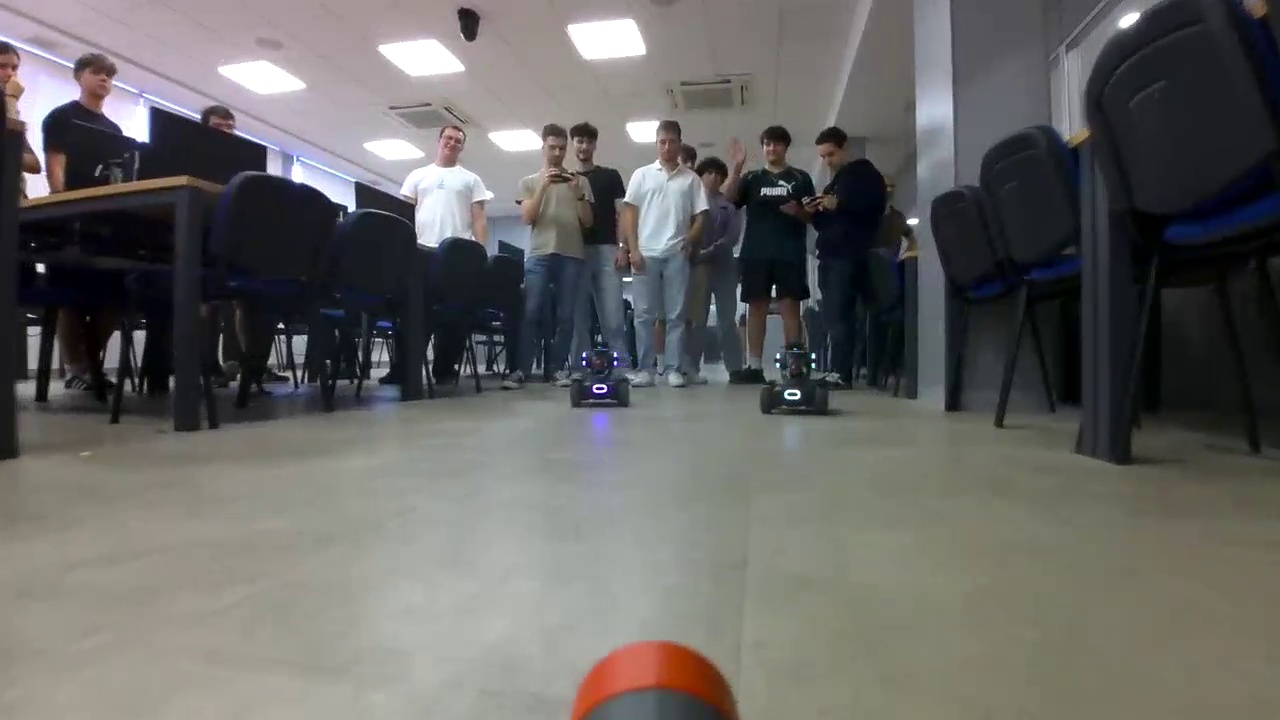robot: (760, 344, 830, 415), (570, 343, 630, 406)
